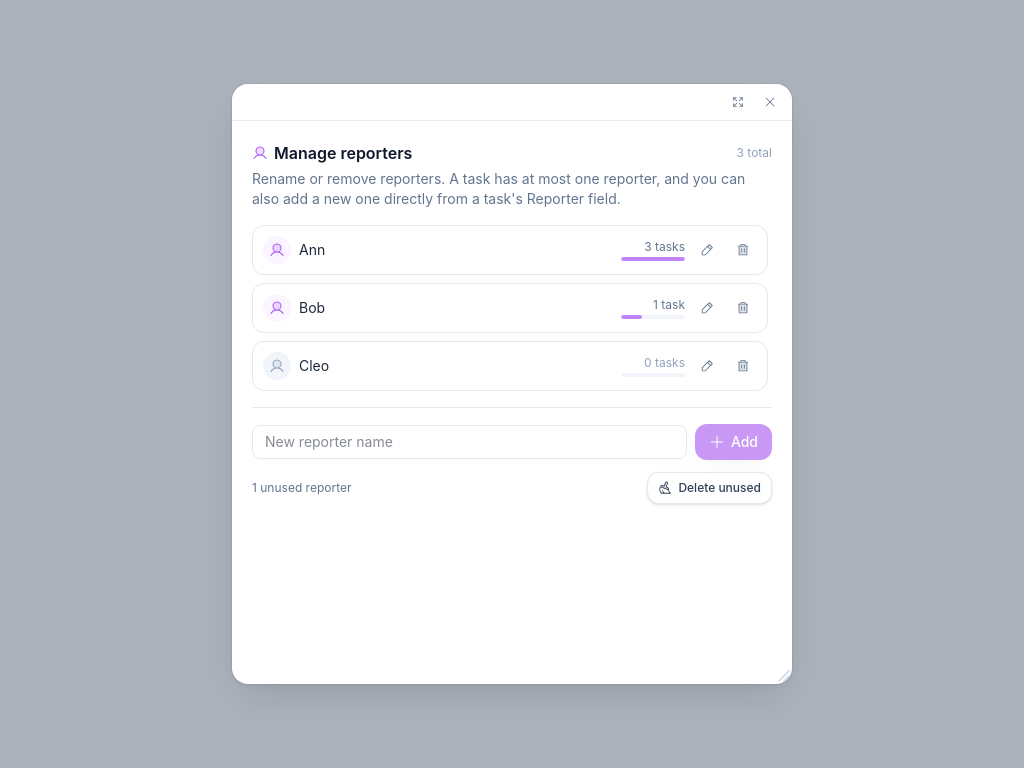
ReporterManager › keeps the editor open and shows the error when the rename fails
Click the button named "Rename reporter Ann": (707, 250) [693,236,721,264]
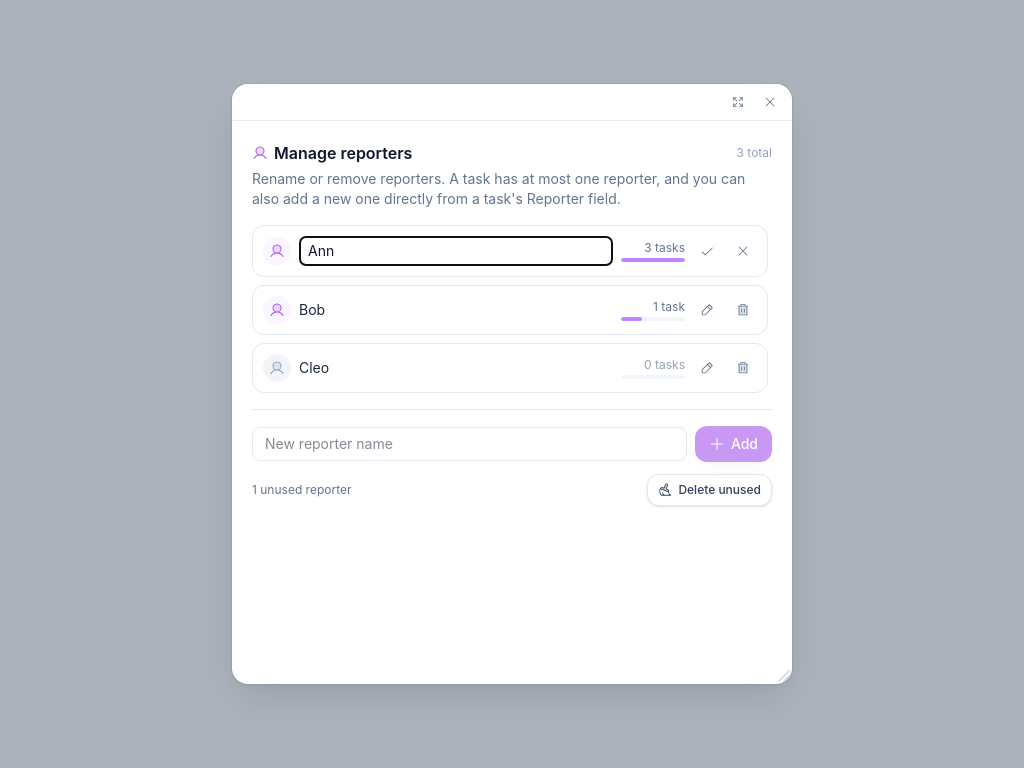
Replace the text in the field named "New name for Ann" with "Anna": (456, 251) [299,236,613,266]
Then press Enter
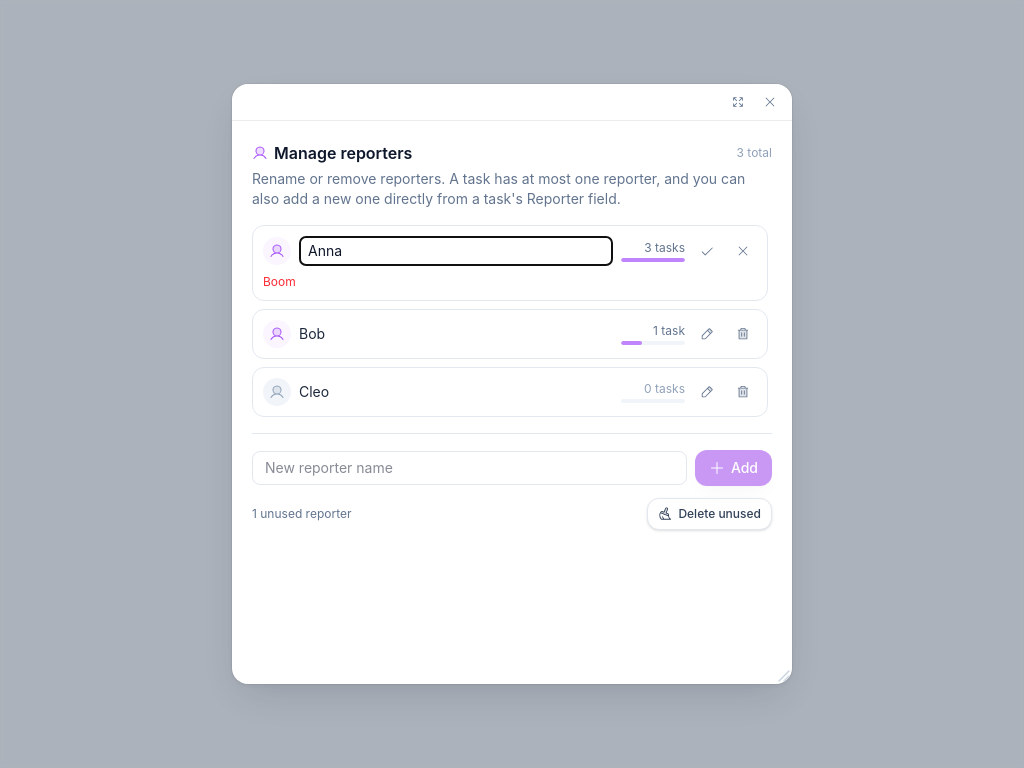
Expected: the text "Boom" is shown, [263,274,296,289]
